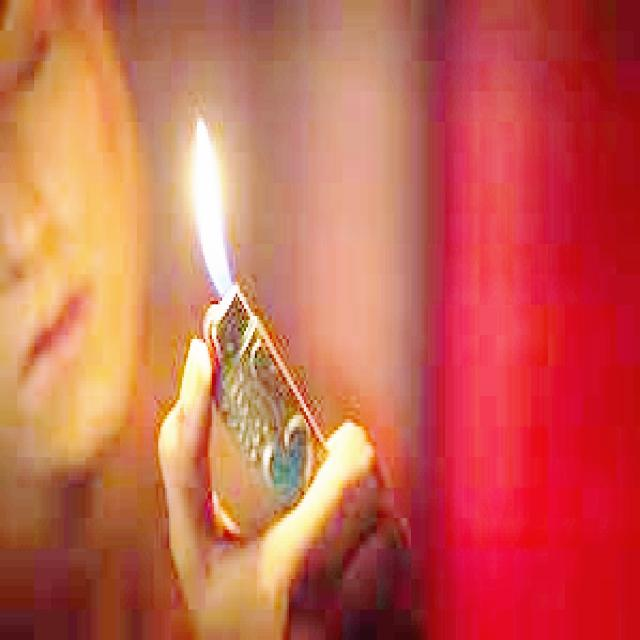api: (187, 112, 241, 298)
